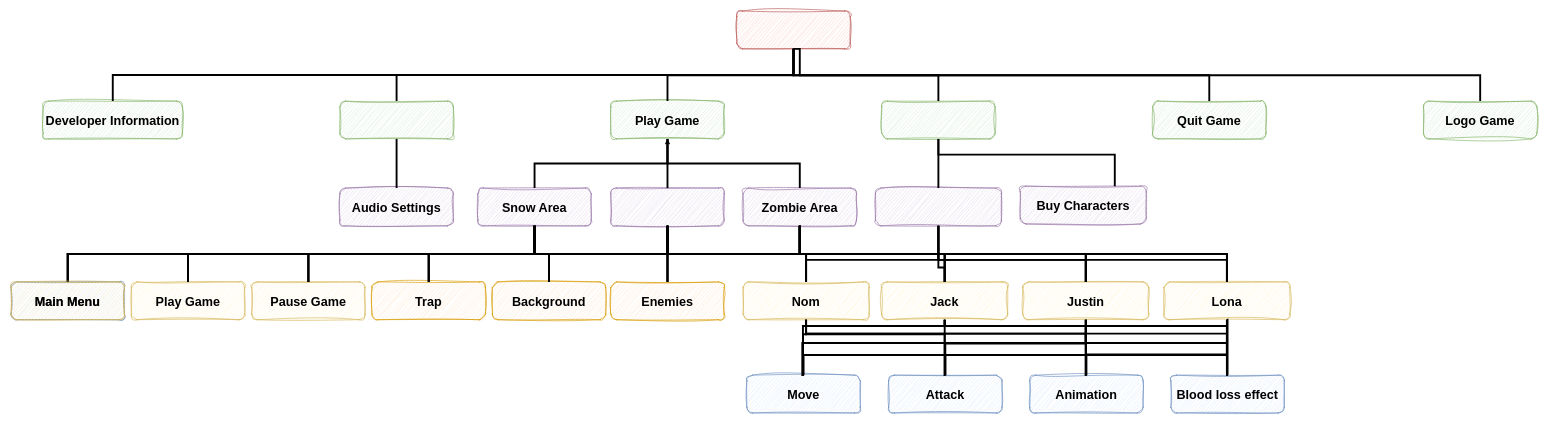
This 1548x424 diagram has some shape labels left out. Here are the shapes that lost their labels. From the top down, the centre of each, then its label:
the point at 793,29: Nom Adventure
the point at 396,119: Setting Game
the point at 938,119: Shop Game
the point at 667,206: Desert Area
the point at 938,206: Choose Characters
